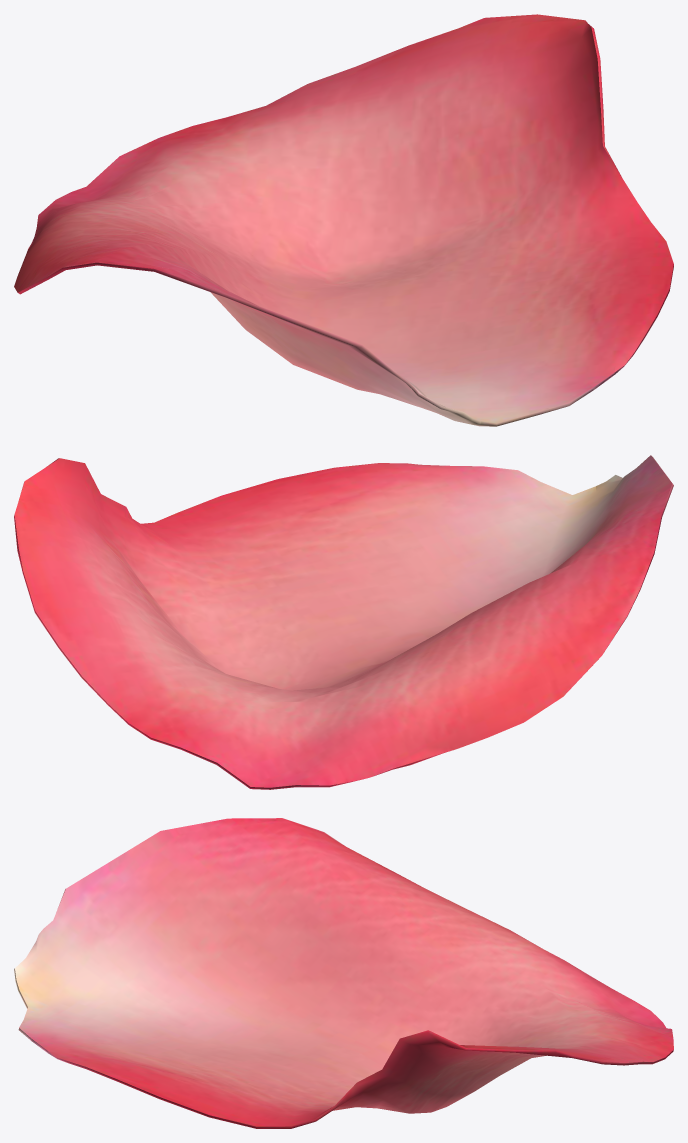
The model's file is flower1.obj.
3 renders of one model, top to bottom at view 1: azimuth 30°, elevation 25°; view 2: azimuth 150°, elevation 25°; view 3: azimuth 270°, elevation 25°, orthographic. The views are drawn at different scales.
Visible parts, largest first — view 1: 3d66-Editable_mesh-20557473-001.003; view 2: 3d66-Editable_mesh-20557473-001.003; view 3: 3d66-Editable_mesh-20557473-001.003.
Part boxes in pixels (<box>): 3d66-Editable_mesh-20557473-001.003: <box>14,14,673,426</box>; 3d66-Editable_mesh-20557473-001.003: <box>14,455,673,789</box>; 3d66-Editable_mesh-20557473-001.003: <box>14,818,673,1128</box>.
Size of the model in its own units: 0.2477 by 0.0775 by 0.2802.
1 material, 1 textured.
